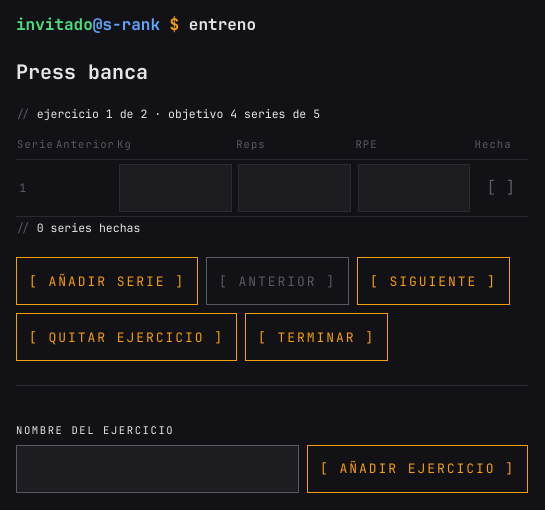
se pasa de ejercicio y el anterior conserva lo apuntado
Type "80" into the number field named "Peso en kilos, serie 1" at (176, 188), box [119,164,232,212]
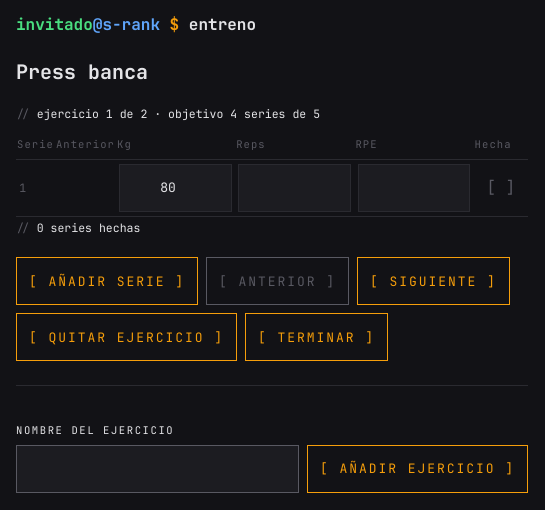
Click the button "[ SIGUIENTE ]" at (433, 281), box [357,257,510,305]
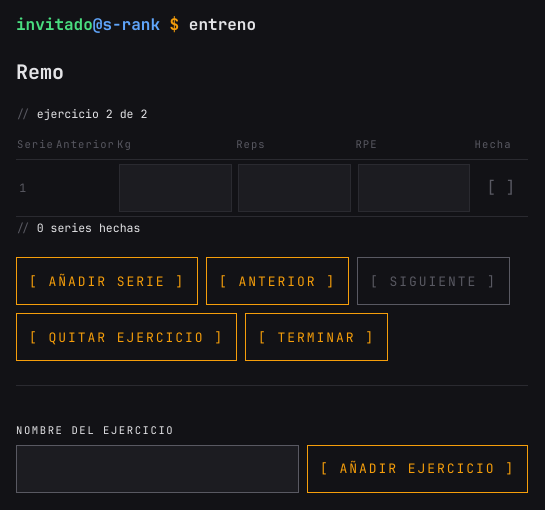
Expected: the heading "Remo" is shown, [16,59,64,85]
